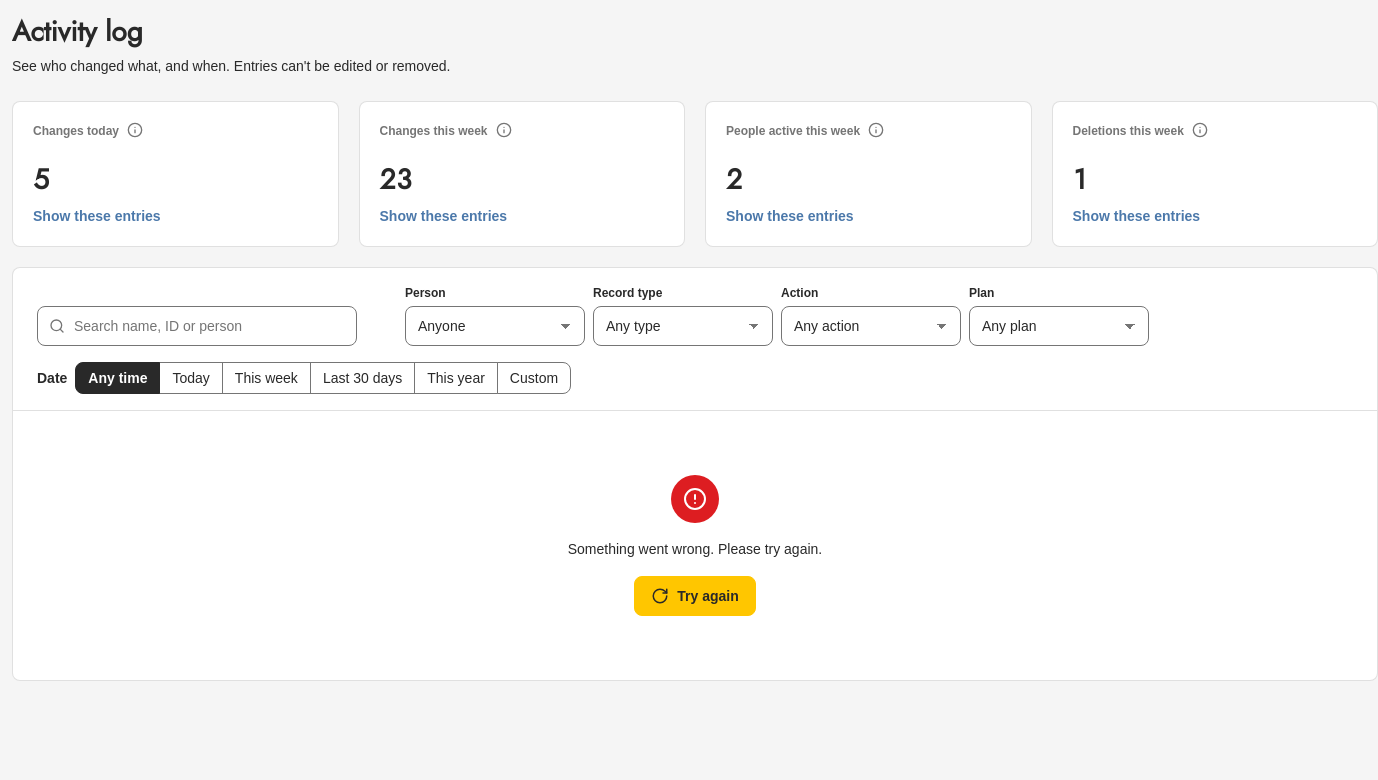
Scenario: ActivityLogPage › says why the log could not be loaded, with Try again
The width and height of the screenshot is (1378, 780).
Expected: the message reads "Something went wrong. Please try again.", [568,541,822,557]
Click the button "Try again". click: (695, 596)
box: [634,576,756,616]
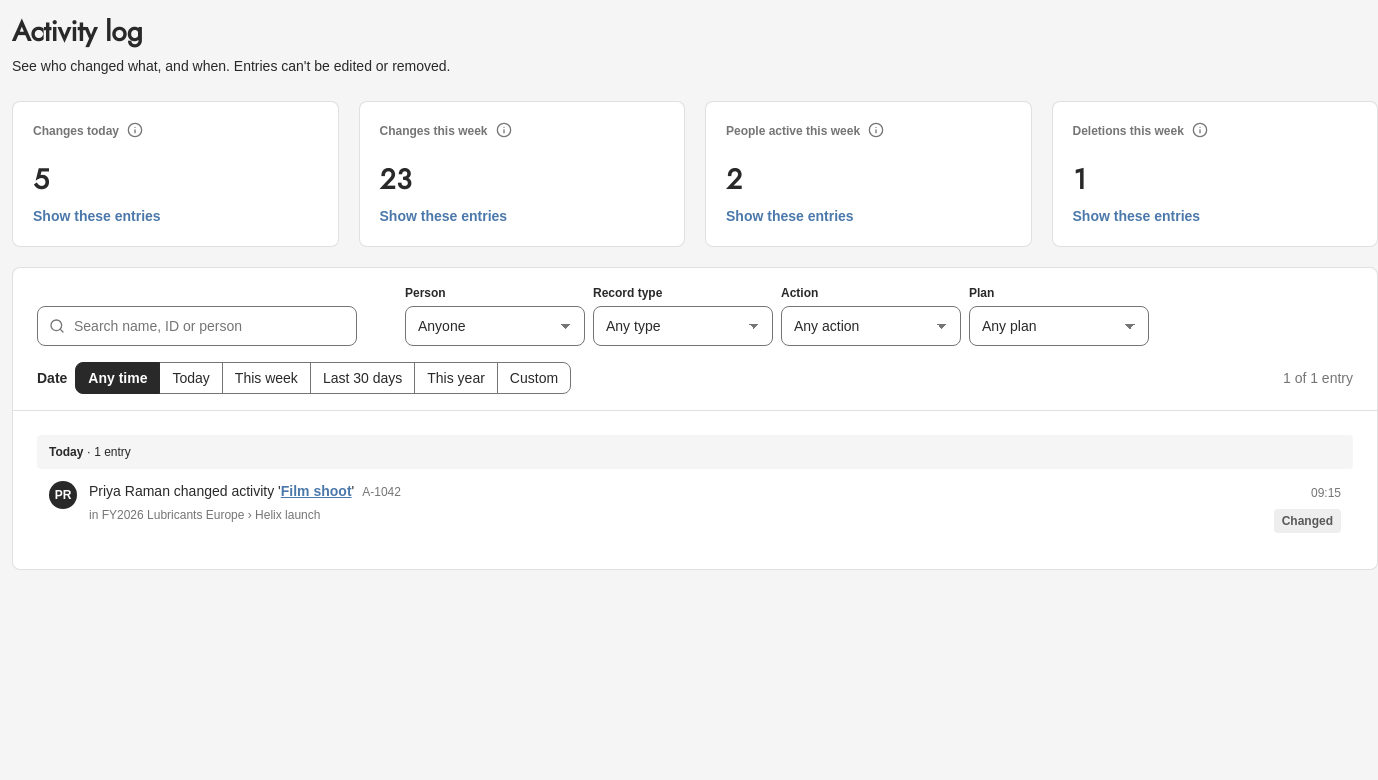
Expected: the text "1 of 1 entry" is shown, [1283,368,1353,388]
